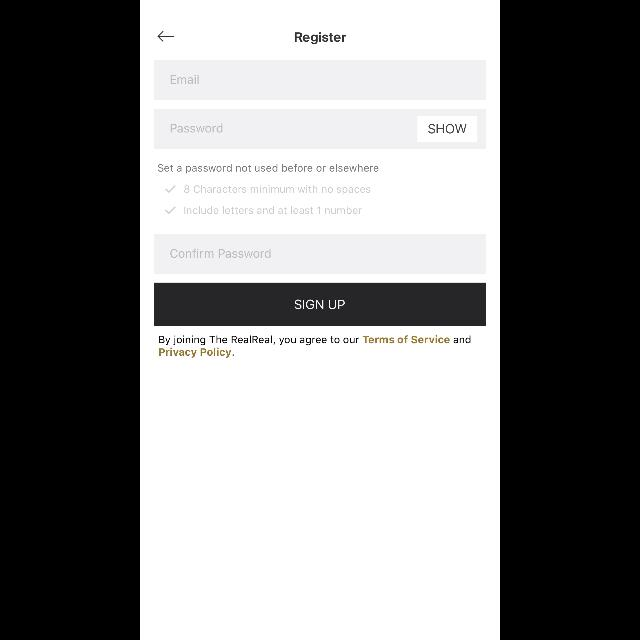icon: (158, 32, 174, 42), (166, 208, 176, 215), (166, 185, 176, 192)
input: (154, 234, 486, 274), (154, 109, 486, 149), (154, 60, 486, 100)
text: (160, 336, 470, 358), (158, 164, 378, 173), (184, 186, 370, 194), (185, 206, 362, 214), (170, 248, 272, 258), (294, 33, 346, 45), (171, 124, 223, 132), (171, 76, 199, 84)
textbutton: (154, 282, 486, 326), (417, 116, 477, 142)
